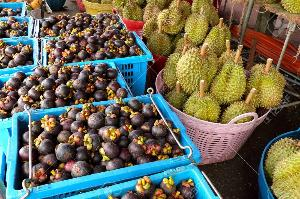figs: (13, 97, 183, 199), (0, 65, 126, 109), (47, 30, 145, 66), (35, 13, 122, 39), (0, 39, 36, 69), (0, 18, 34, 38), (0, 2, 30, 18)
